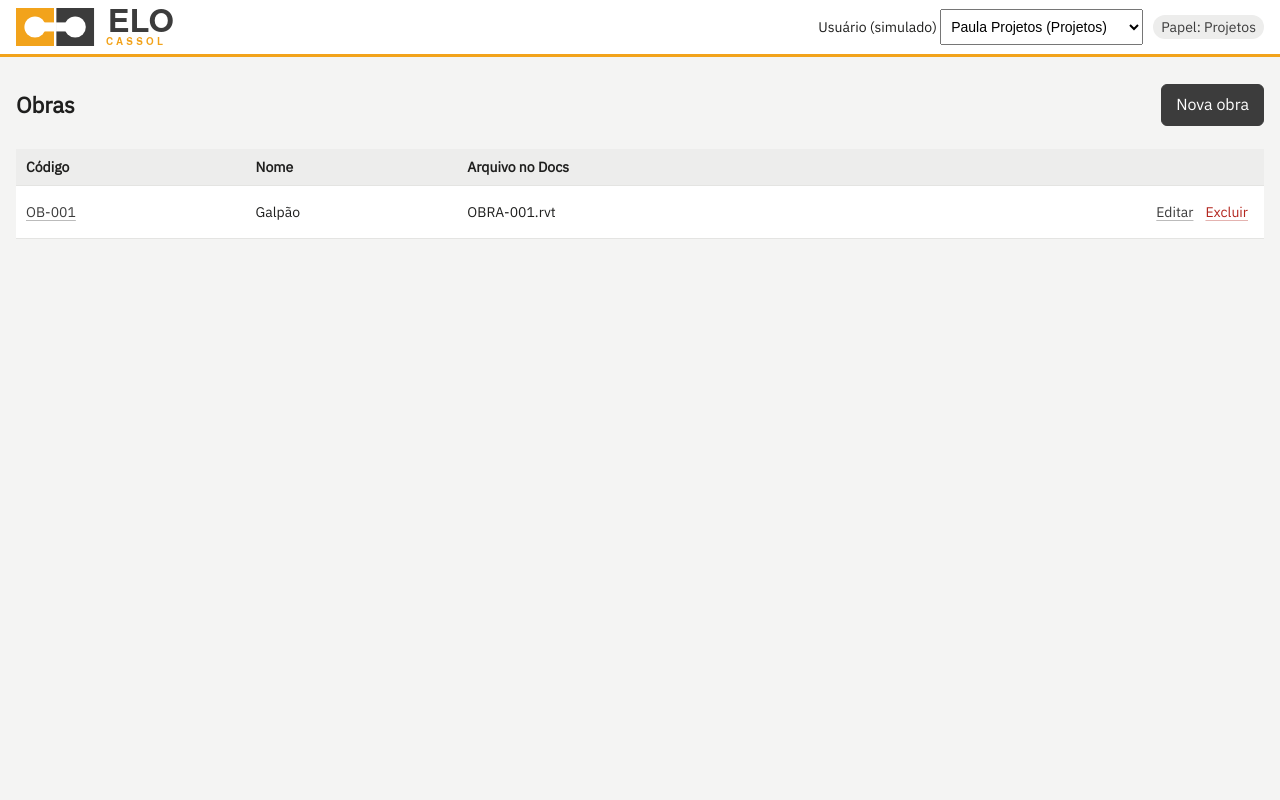
Scenario: Editar e excluir obra › mostra o erro de código repetido
This screenshot has width=1280, height=800.
Click the button with aria-label "Editar obra OB-001": coordinates (1175, 212) [1150,194,1200,230]
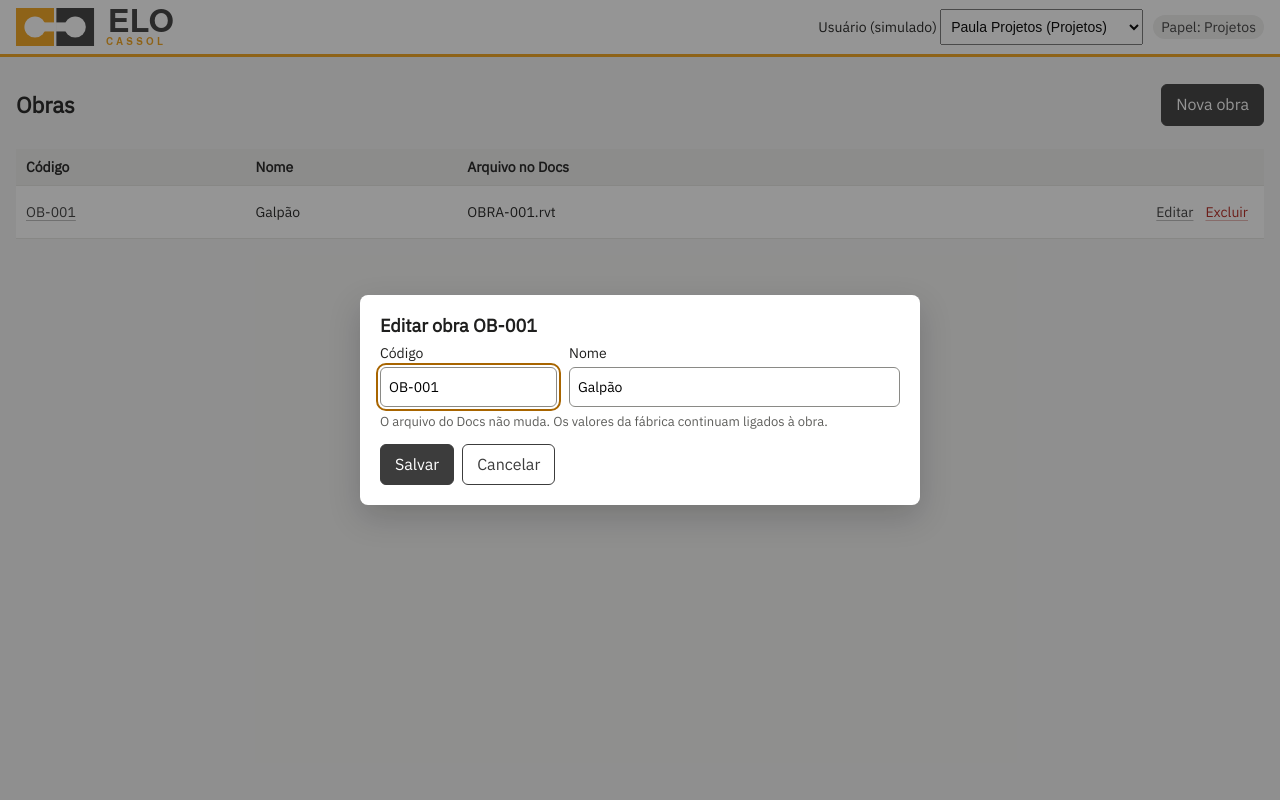
Replace the text in the field labelled "Código" with "OB-009": coordinates (468, 387) [380,367,557,407]
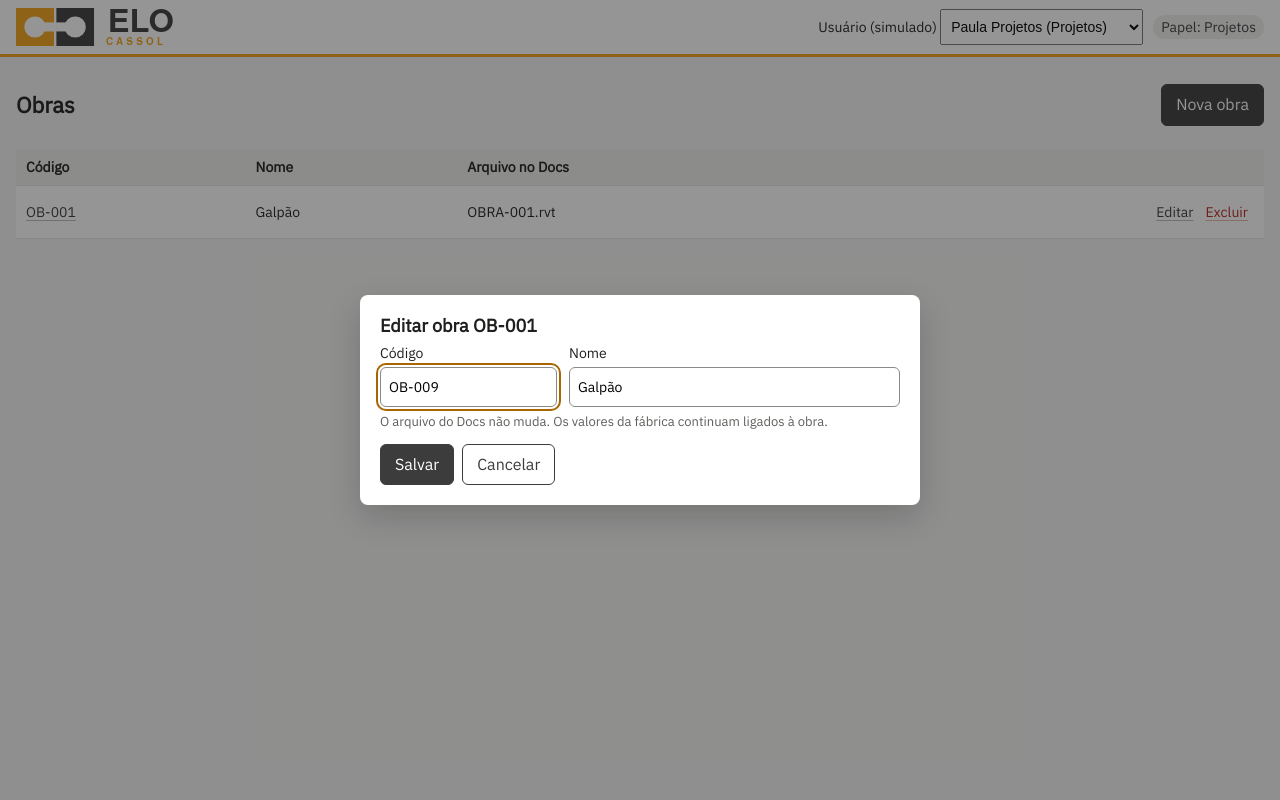
Click the button "Salvar": coordinates (417, 465) [380,444,454,485]
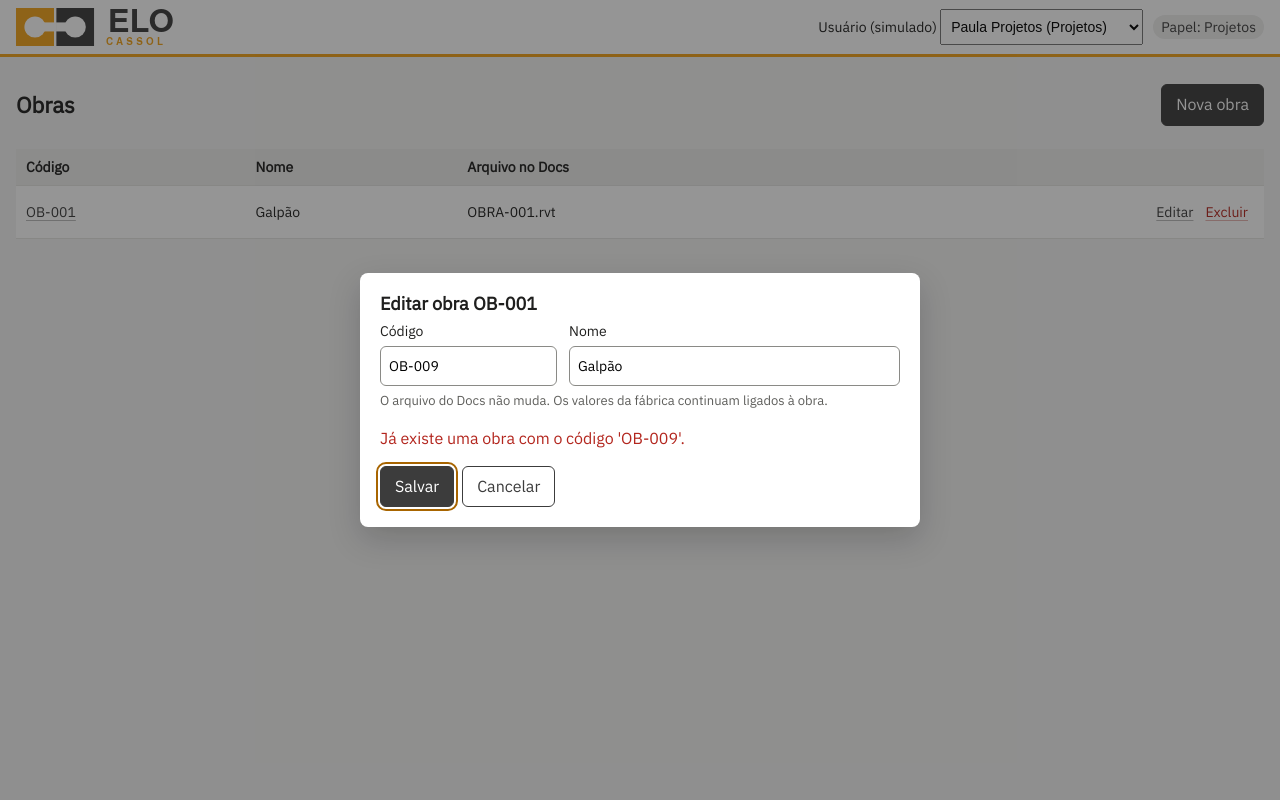
Now the dialog is shown, box [360,273,920,527]
Now the message reads "Já existe uma obra com o código 'OB-009'.", box [380,428,685,448]
